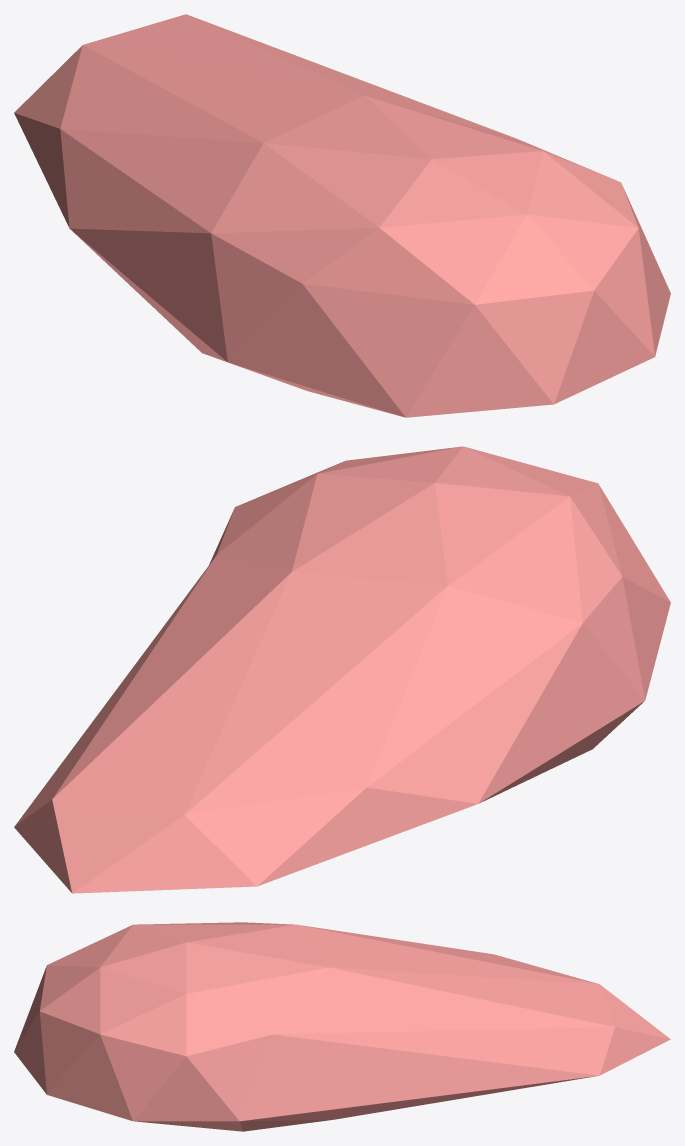
Rendered from chickenFillet.fbx.
The picture shows the model from 3 angles, top to bottom: view 1: azimuth 30°, elevation 25°; view 2: azimuth 150°, elevation 25°; view 3: azimuth 270°, elevation 25°; orthographic projection. The views are drawn at different scales.
Visible parts, largest first — view 1: Icosphere; view 2: Icosphere; view 3: Icosphere.
Part boxes in pixels (x1,y1,x2,y2): Icosphere: (14,14,670,417); Icosphere: (14,446,670,893); Icosphere: (14,922,670,1131).
Size of the model in its own units: 190 by 91.64 by 381.
